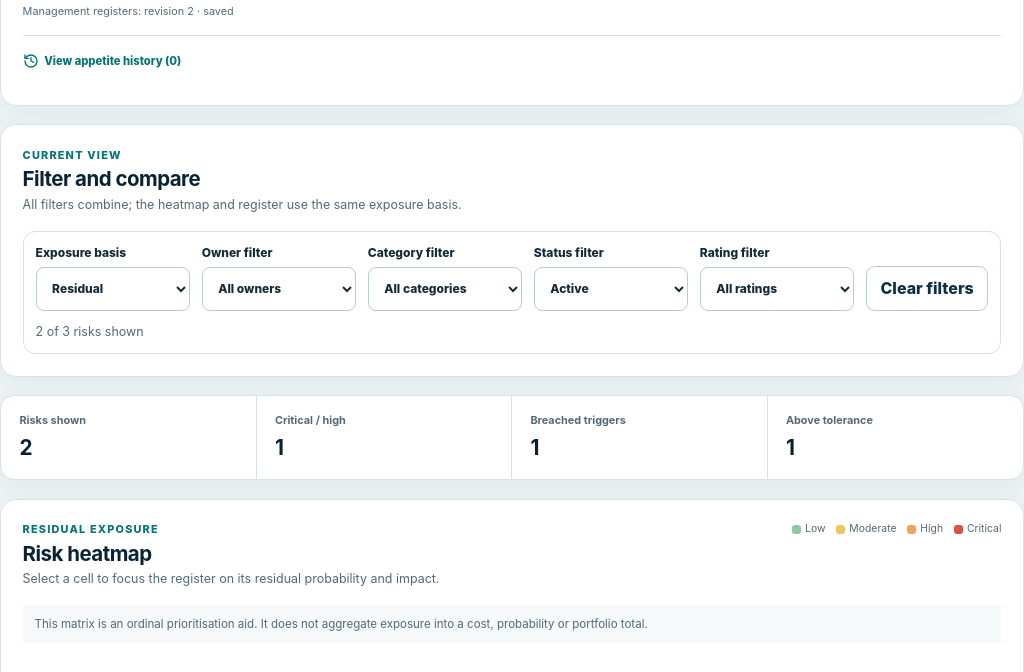
Test: risk-control page › switches inherent and residual exposure for both heatmap and register
(page scrolled)
Select "Inherent" in the dropdown labelled "Exposure basis" at coordinates (113, 288), box [36,266,190,310]
(page scrolled)
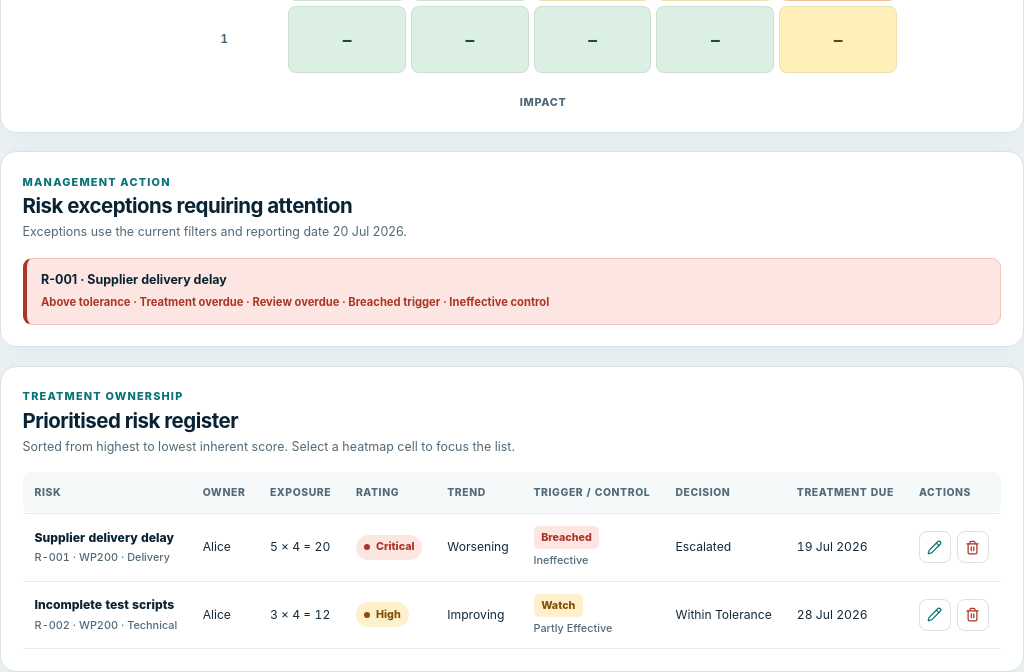
Check: the text "3 × 4 = 12" is shown, box [258,581,344,649]
